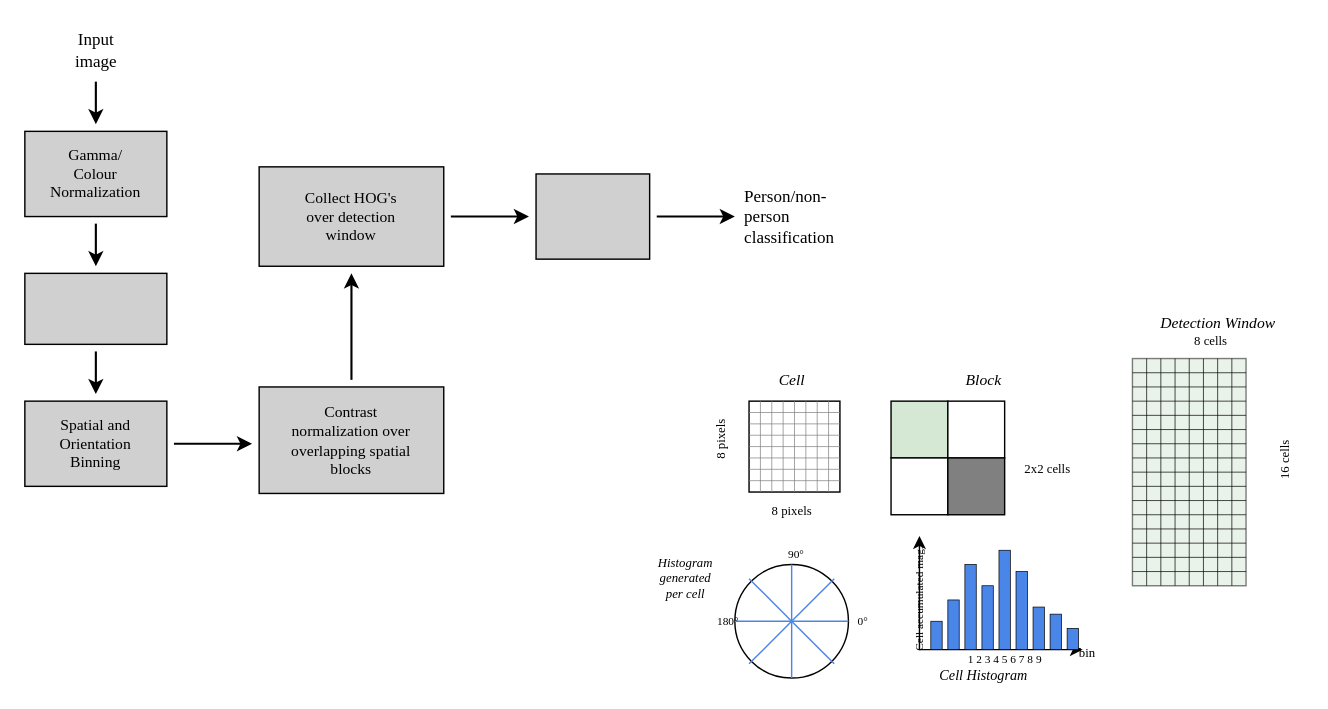
Image size: 1328x709. Some labels were removed from this diagram. Each missing label, with the centre of its shape:
"Gradient Computation" goes at point 95,308.
"Linear SVM" goes at point 592,216.
